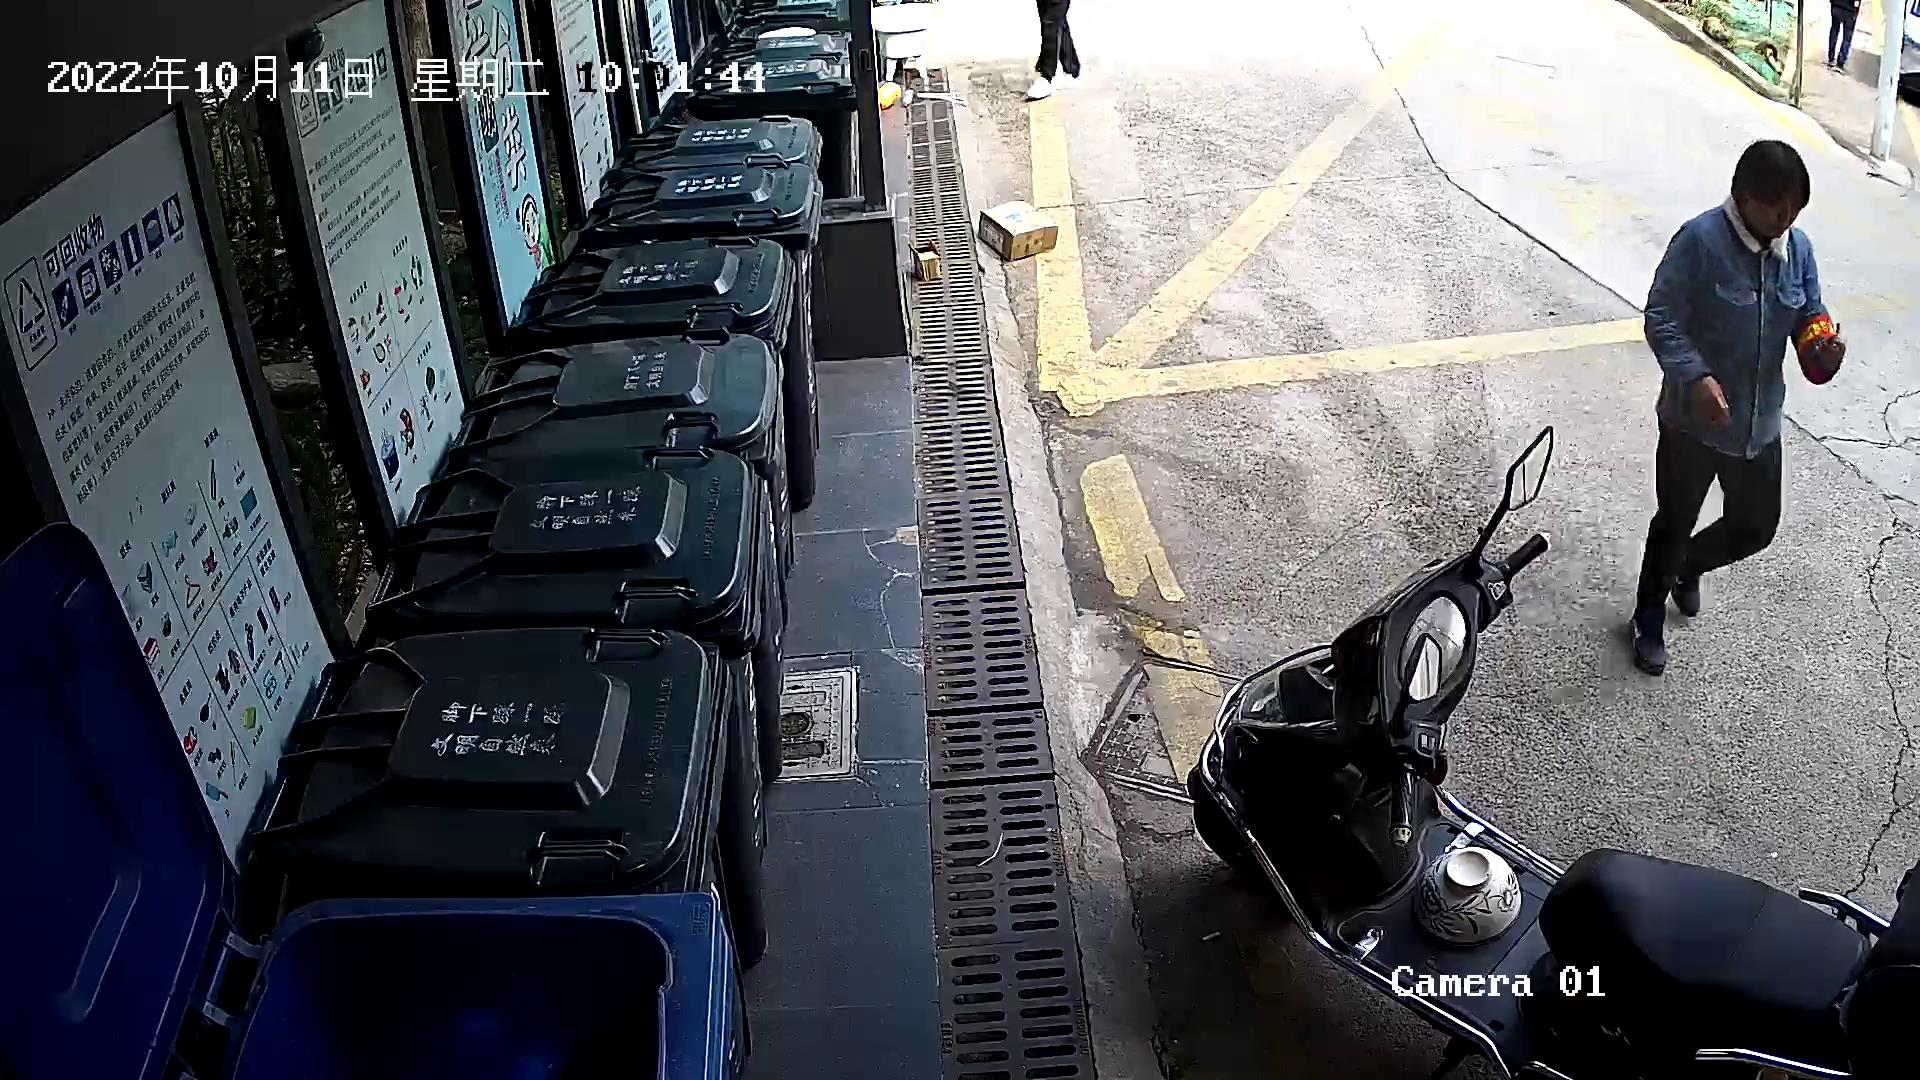worker: (1615, 134, 1858, 679)
zhizhipin: (974, 197, 1064, 266), (904, 230, 950, 286)
